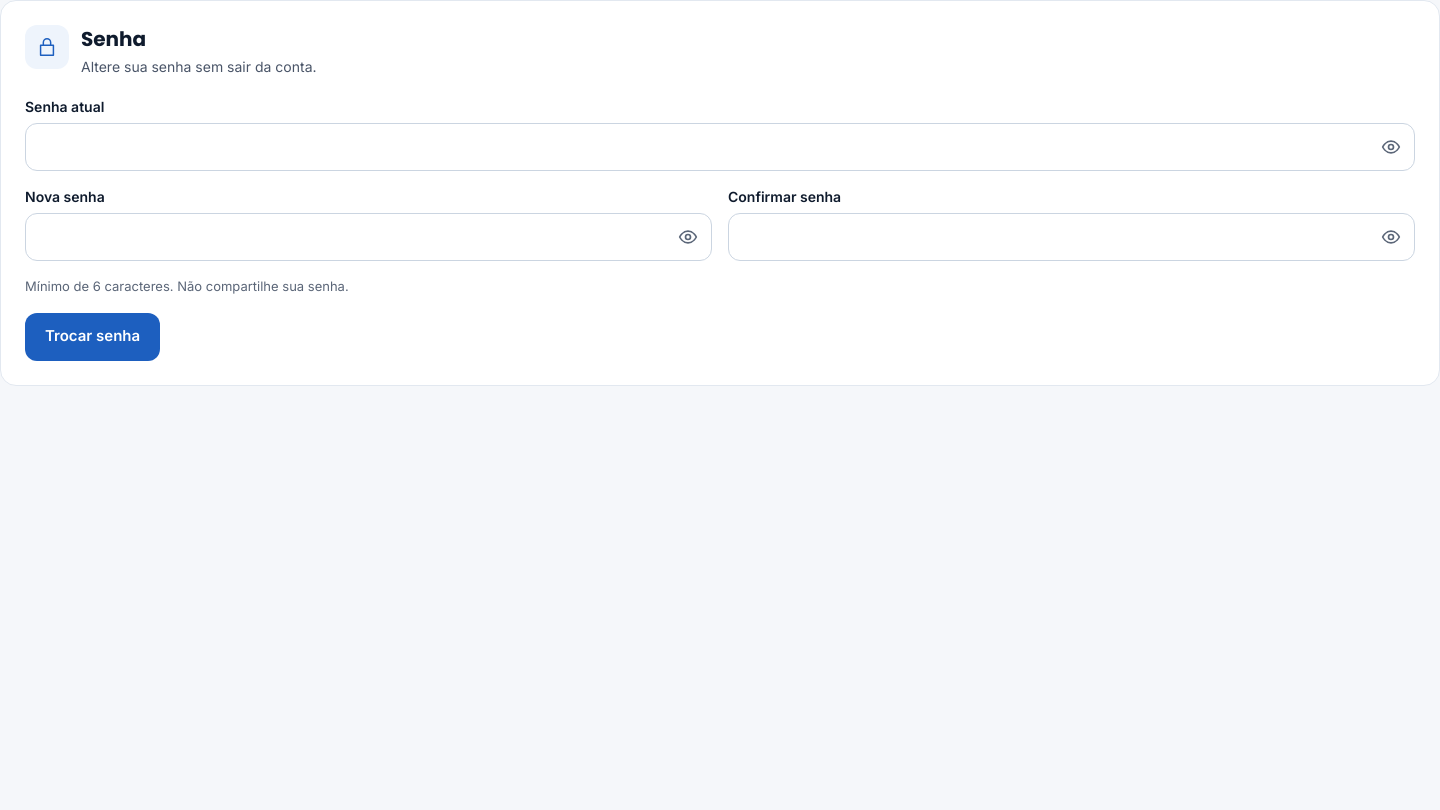
it: sucesso limpa os campos e mostra o toast
Type "atual123" into the password field labelled "Senha atual" at (720, 147), box [25, 123, 1415, 171]
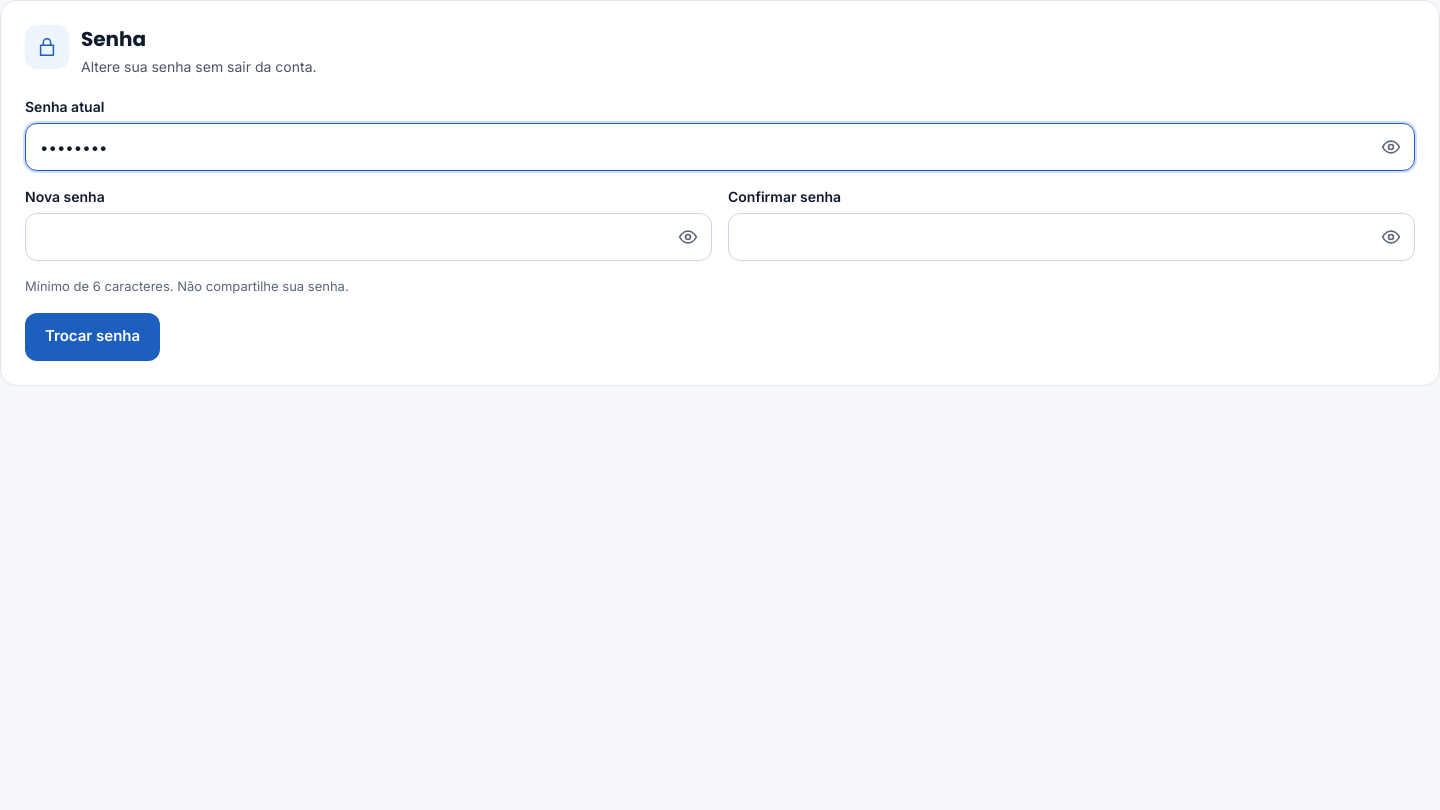
Type "nova123" into the password field labelled "Nova senha" at (368, 237), box [25, 213, 712, 261]
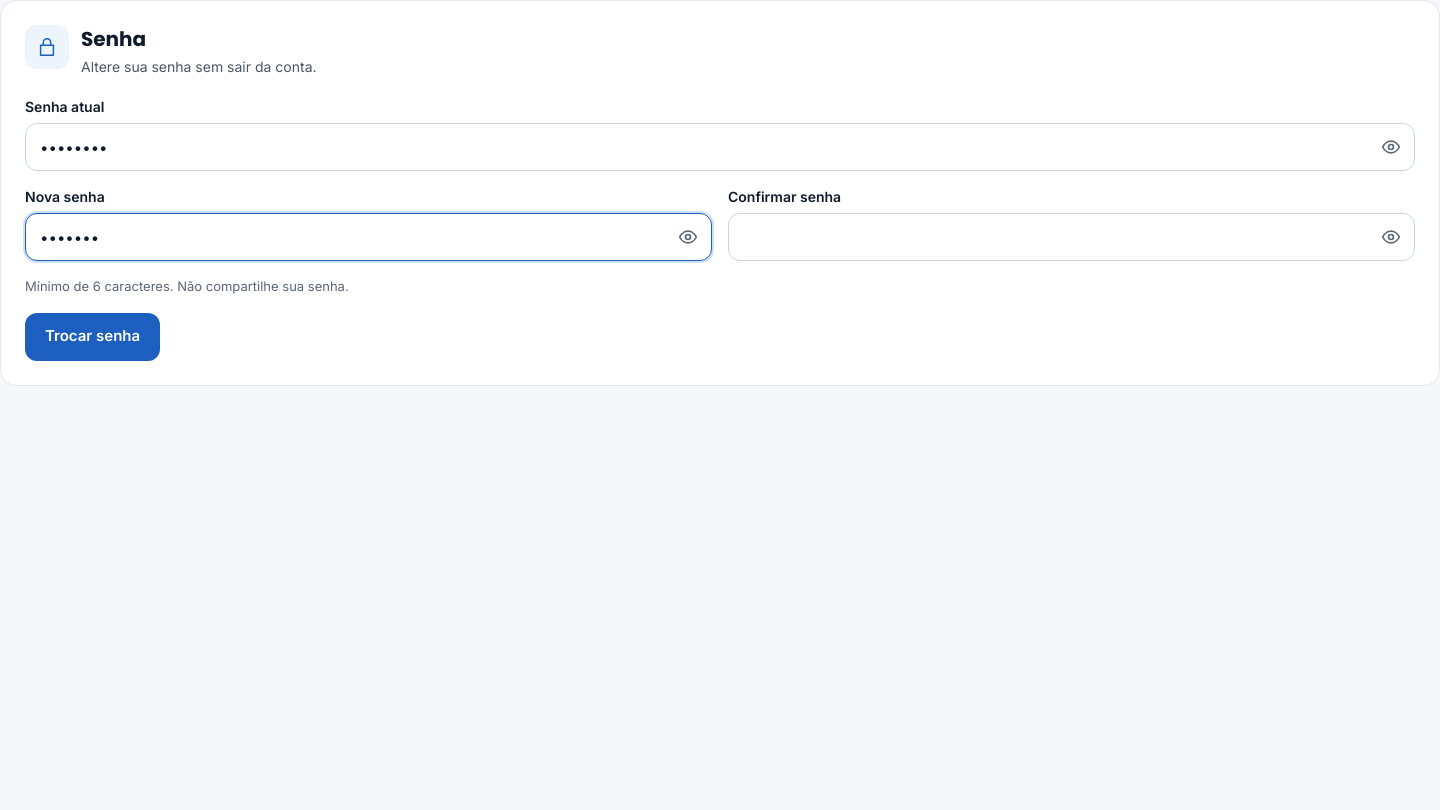
Type "nova123" into the password field labelled "Confirmar senha" at (1072, 237), box [728, 213, 1415, 261]
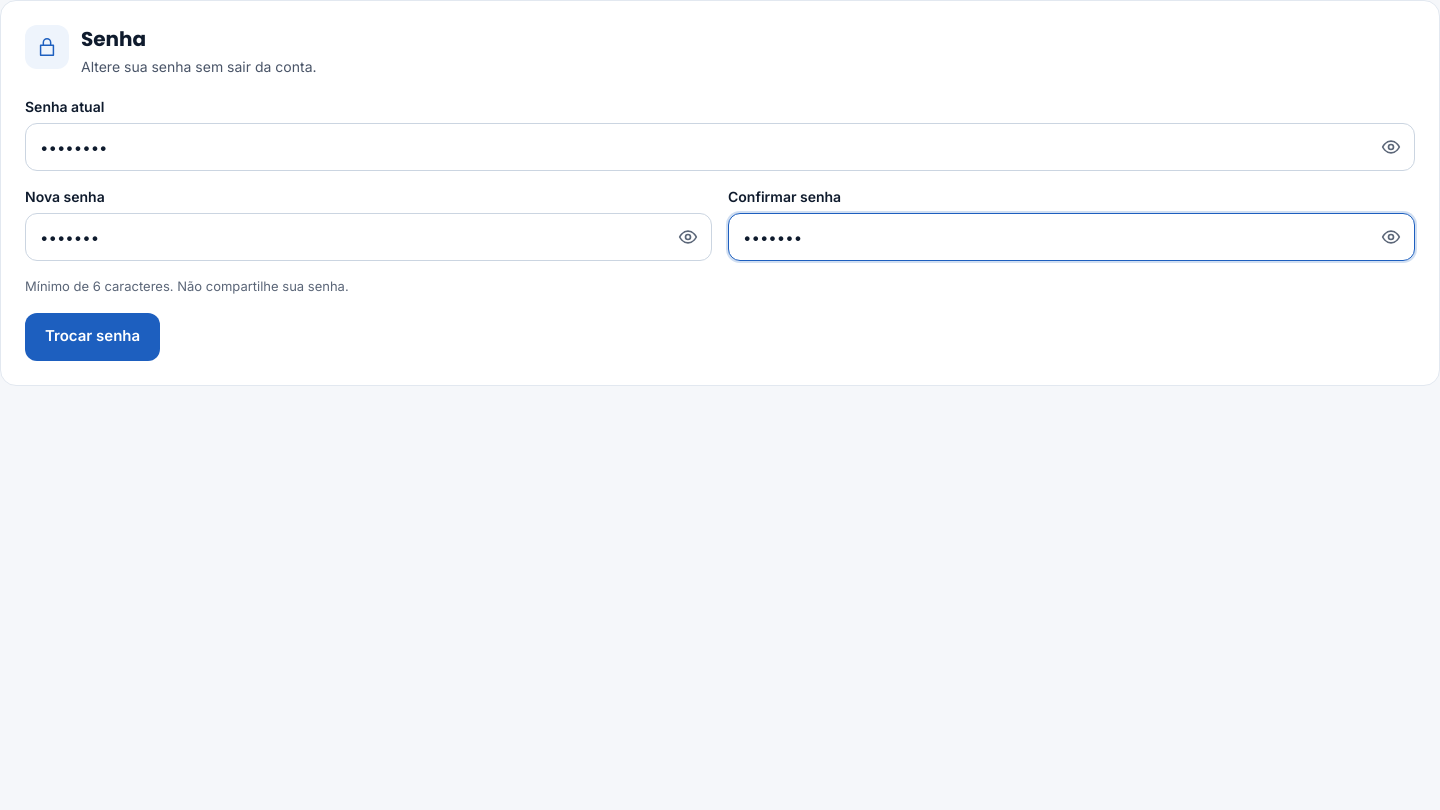
Click the button "Trocar senha" at (93, 336), box [25, 312, 160, 360]
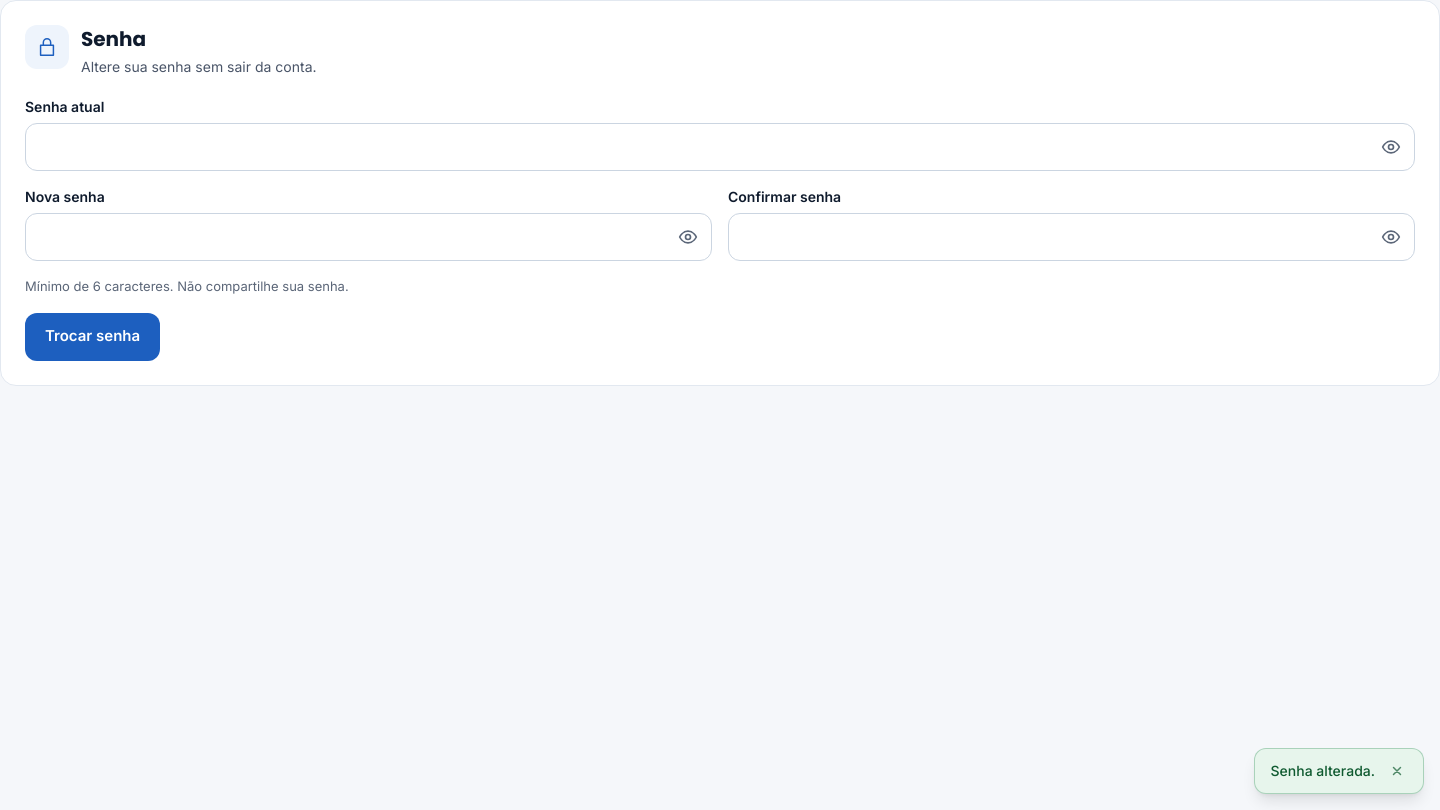
Expected: the message reads "Senha alterada.", [1270, 762, 1375, 779]
Expected: the password field labelled "Senha atual" is empty, [25, 123, 1415, 171]
Expected: the password field labelled "Nova senha" is empty, [25, 213, 712, 261]
